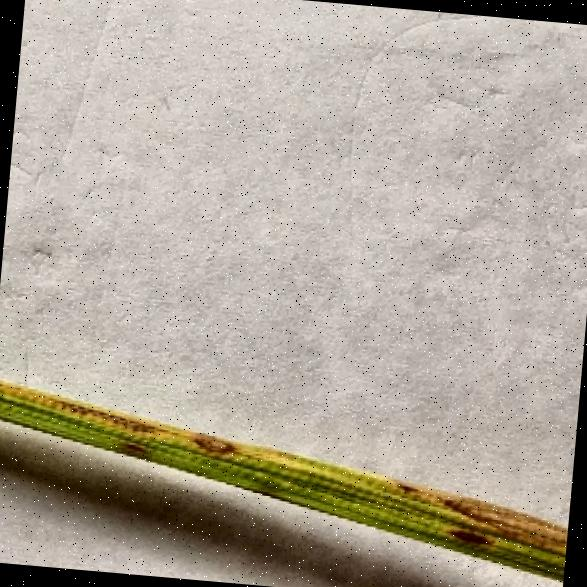Leaf_smut: (37, 389, 256, 482), (381, 478, 568, 558)
